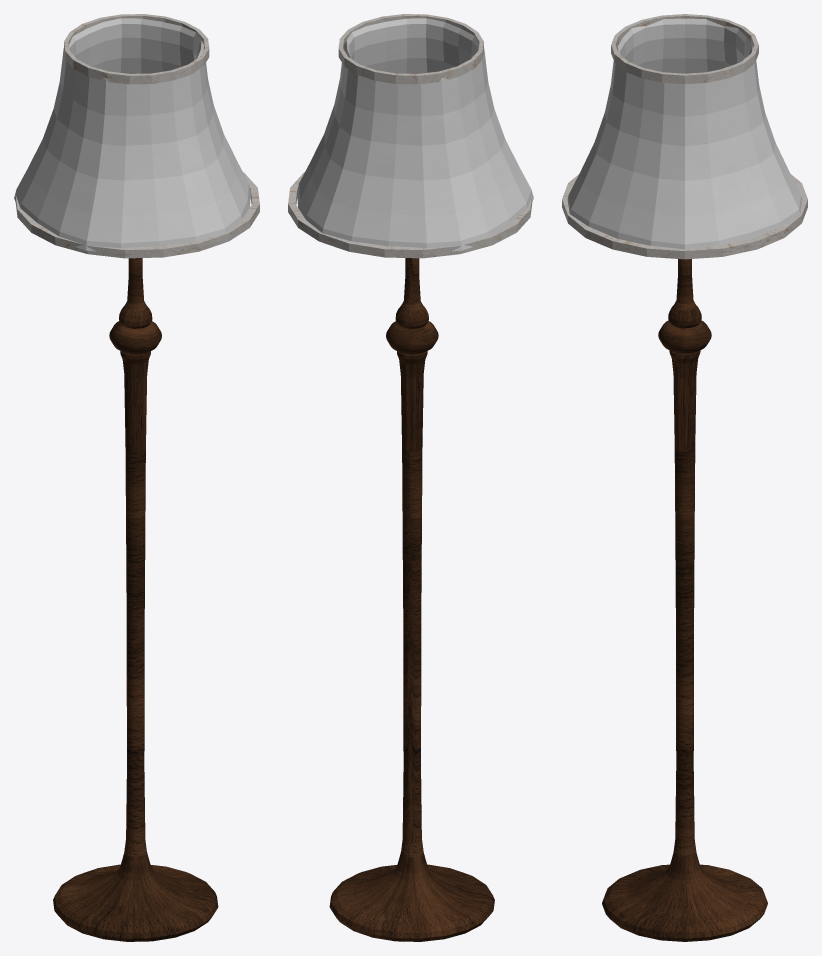
Rendered from LamparaDePie.fbx.
3 renders of one model, left to right at view 1: azimuth 30°, elevation 25°; view 2: azimuth 150°, elevation 25°; view 3: azimuth 270°, elevation 25°, orthographic.
Parts seen in each view (by area): view 1: Cylinder; view 2: Cylinder; view 3: Cylinder.
Boxes of the visible parts, x1,y1,x2,y2 form: Cylinder: (14,14,259,941); Cylinder: (288,14,533,941); Cylinder: (562,14,807,941).
Bounding box in the file's own units: 42 × 165 × 42.
